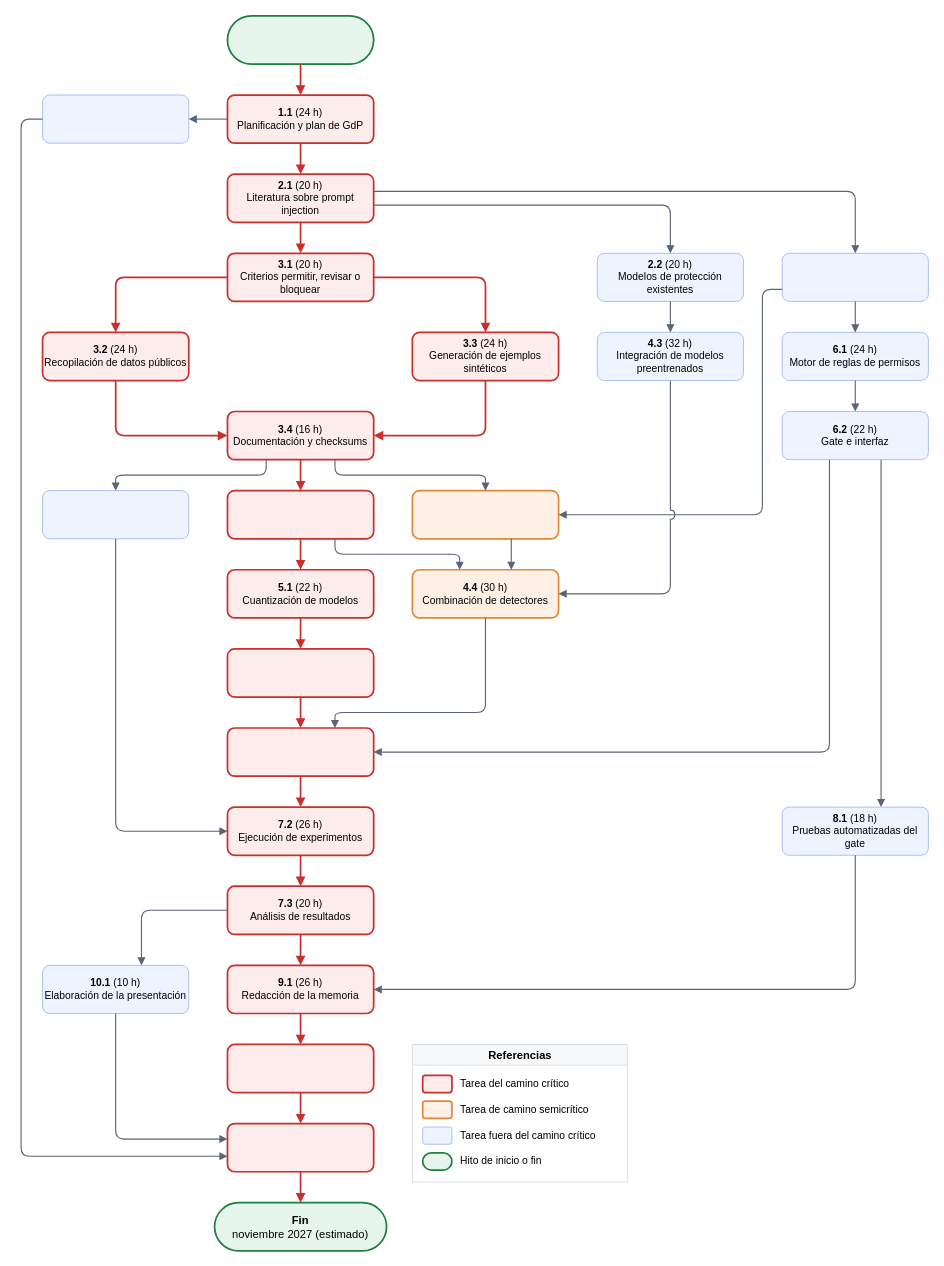
Some shapes in this 944 by 1266 pixel diagram are drawn without their labels. The shapes that lost their labels are listed below. From the top down, each one's centre as x and y in pixels, then its label:
At (x=300, y=39): "Inicio octubre 2026".
At (x=115, y=118): "1.2 (14 h) Seguimiento y reuniones con el director".
At (x=854, y=276): "2.3 (16 h) Control de herramientas y anomalías".
At (x=115, y=514): "7.1 (20 h) Diseño del benchmark y métricas".
At (x=300, y=514): "4.2 (30 h) Clasificadores entrenados".
At (x=485, y=514): "4.1 (30 h) Detector por anomalías".
At (x=300, y=672): "5.2 (24 h) Comparación de precisiones y costo".
At (x=300, y=752): "6.3 (20 h) Matriz de decisión y selección de variante".
At (x=300, y=1068): "9.2 (20 h) Revisión y correcciones".
At (x=300, y=1147): "10.2 (8 h) Ensayo y cierre del proyecto".
